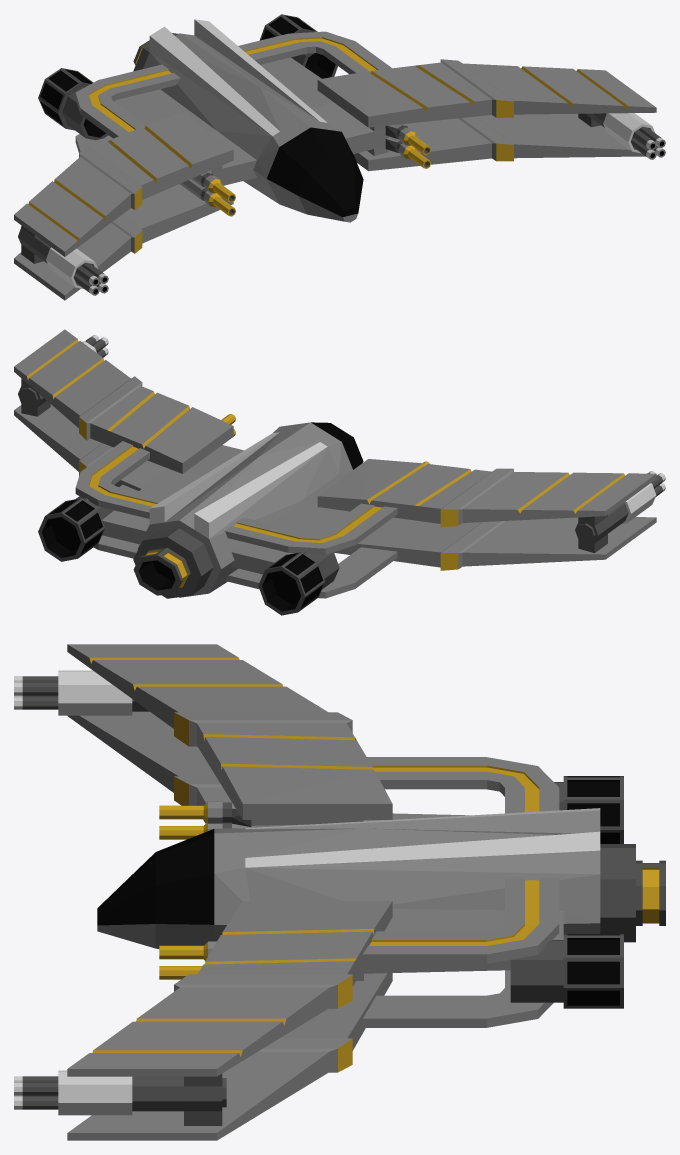
The model's file is Spaceship5_1.fbx.
3 renders of one model, top to bottom at view 1: azimuth 30°, elevation 25°; view 2: azimuth 150°, elevation 25°; view 3: azimuth 270°, elevation 25°, orthographic. The views are drawn at different scales.
Visible parts, largest first — view 1: Spaceship5_1; view 2: Spaceship5_1; view 3: Spaceship5_1.
Boxes of the visible parts, x1,y1,x2,y2 form: Spaceship5_1: (14, 14, 665, 300); Spaceship5_1: (14, 329, 665, 615); Spaceship5_1: (14, 644, 665, 1140).
Size of the model in its own units: 1342 by 216 by 871.
